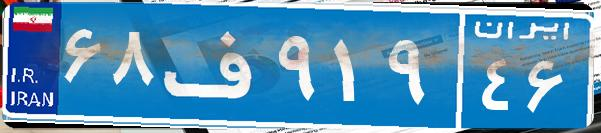1: (330, 28, 385, 110)
4: (475, 38, 525, 113)
6: (57, 26, 110, 107), (525, 38, 570, 115)
8: (110, 28, 158, 105)
9: (385, 28, 445, 110), (273, 28, 330, 110)
ف: (158, 15, 273, 115)
